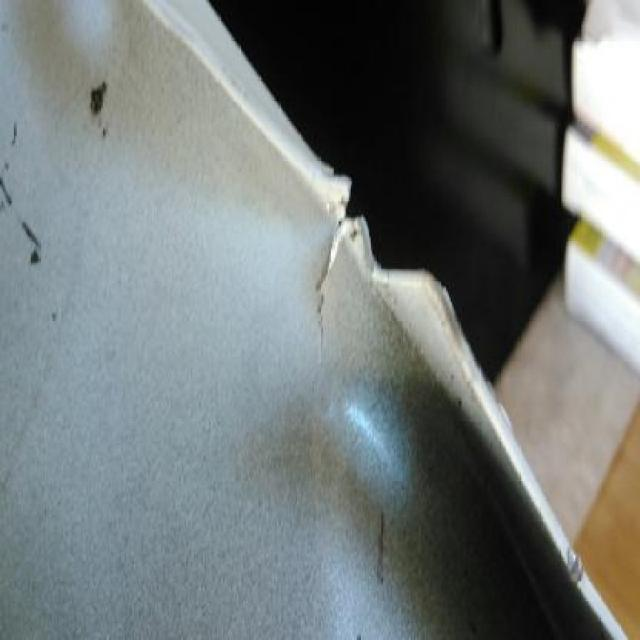crack: (315, 177, 367, 373)
